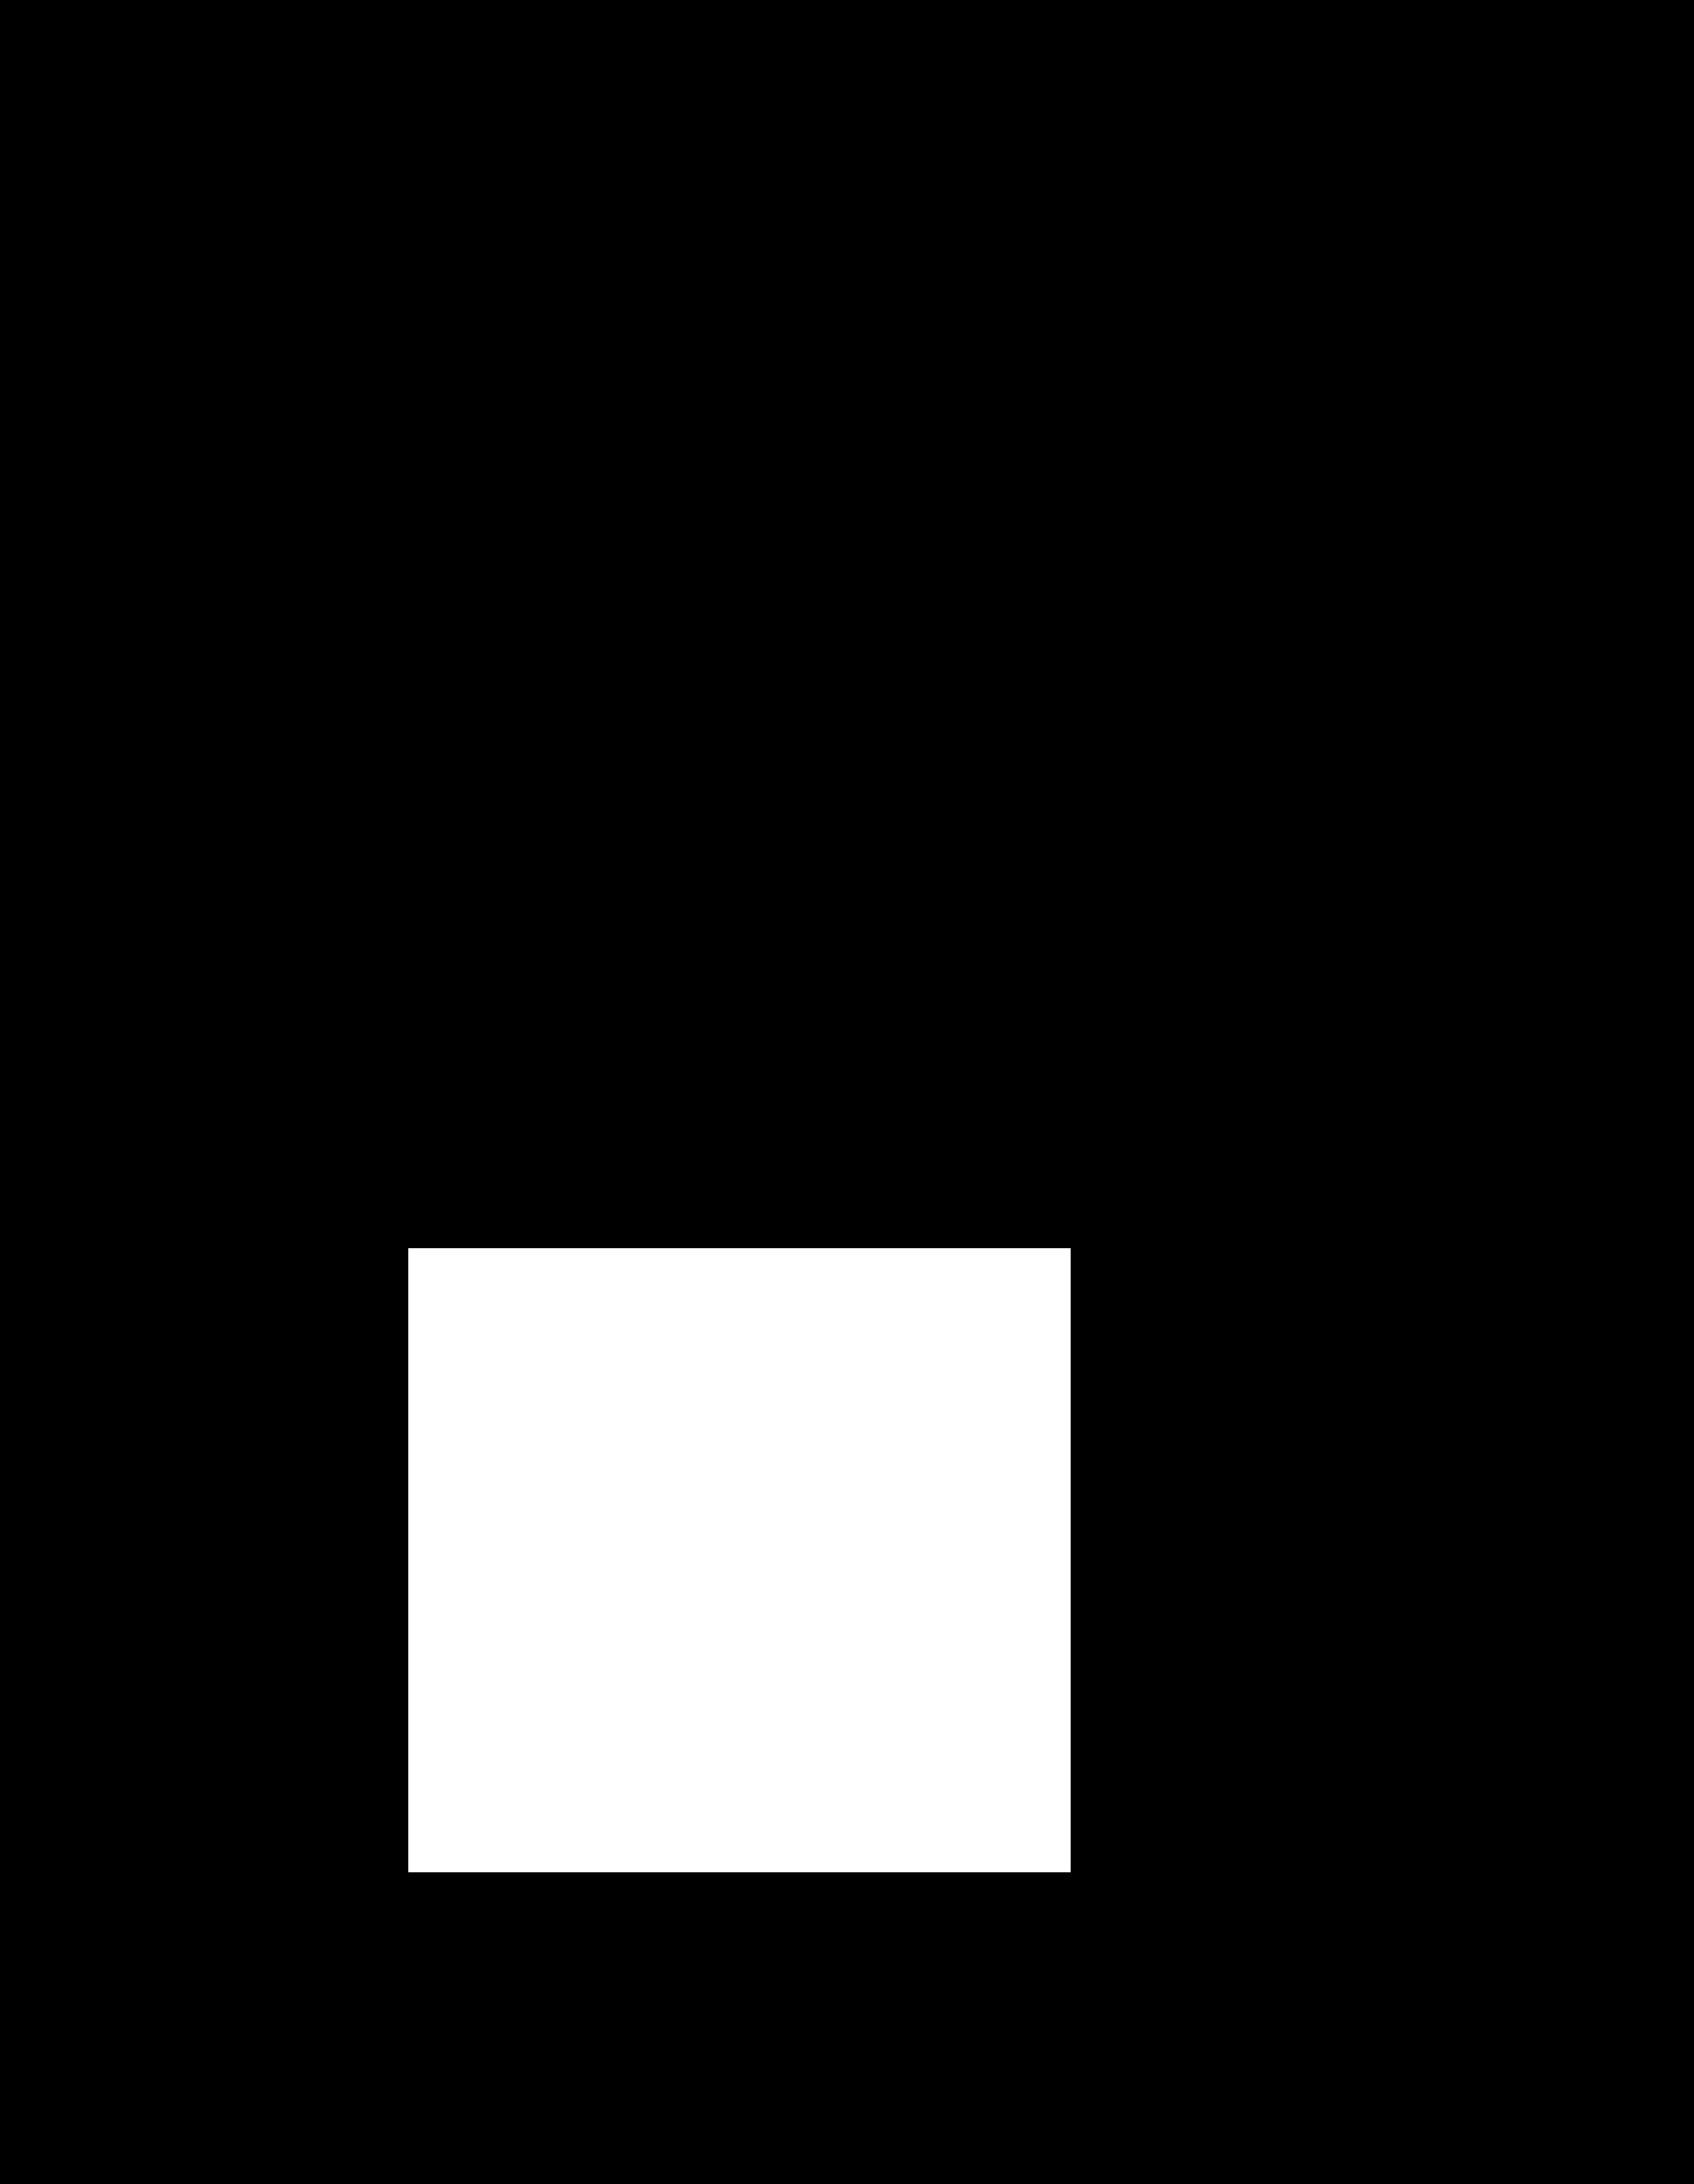table: (408, 1248, 1070, 1872)
